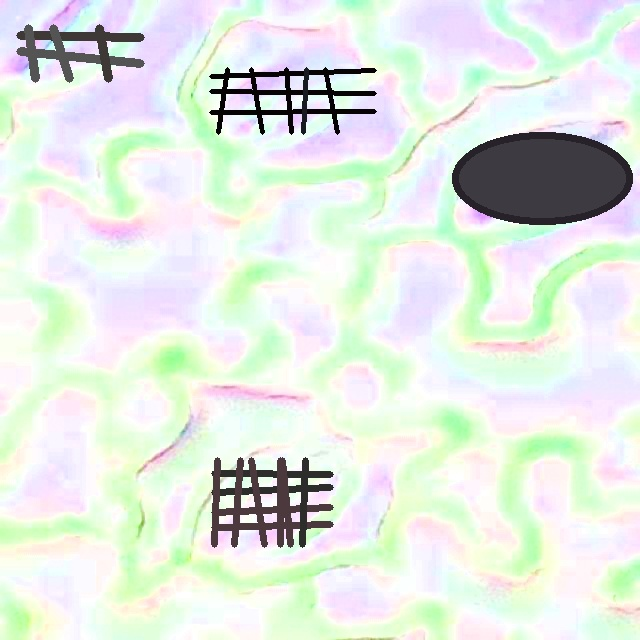open: (452, 132, 631, 225), (209, 67, 376, 134), (211, 457, 332, 546), (17, 25, 143, 81)
